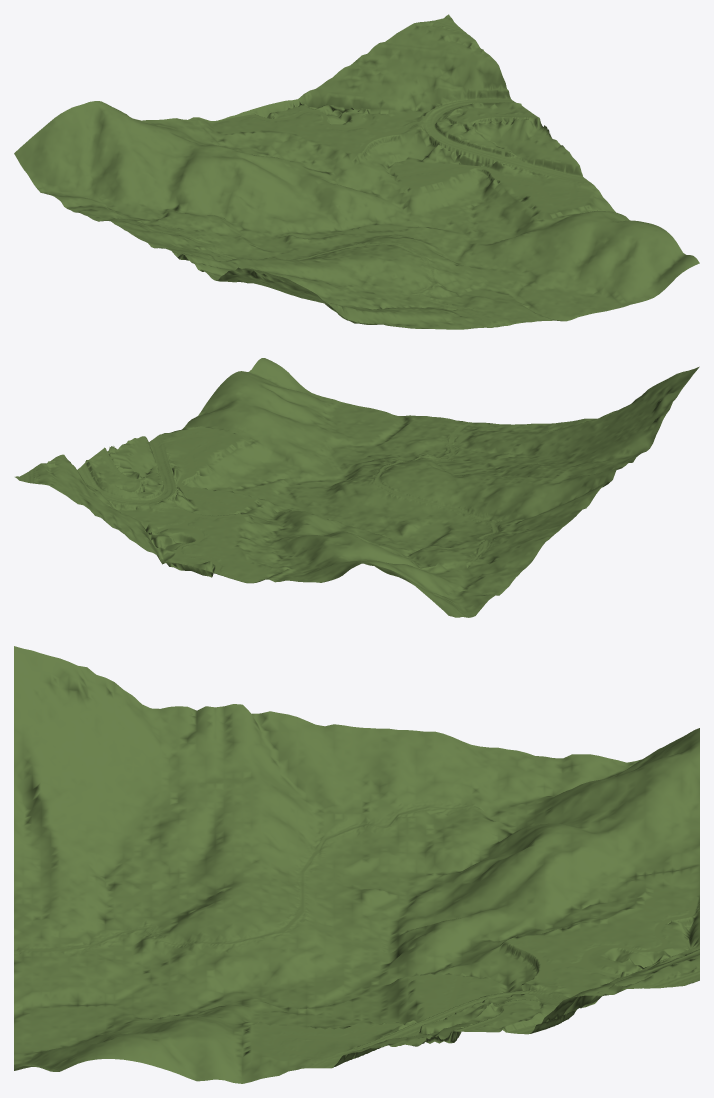
File: terrain_0_0.glb
The picture shows the model from 3 angles, top to bottom: view 1: azimuth 30°, elevation 25°; view 2: azimuth 150°, elevation 25°; view 3: azimuth 270°, elevation 25°; orthographic projection. The views are drawn at different scales.
Parts seen in each view (by area): view 1: terrain_0_0; view 2: terrain_0_0; view 3: terrain_0_0.
Part boxes in pixels (box(x1,y1,x2,y2)): terrain_0_0: box(14, 14, 699, 329); terrain_0_0: box(15, 358, 699, 617); terrain_0_0: box(14, 646, 699, 1083).
Bounding box in the file's own units: 600 × 163 × 600.
